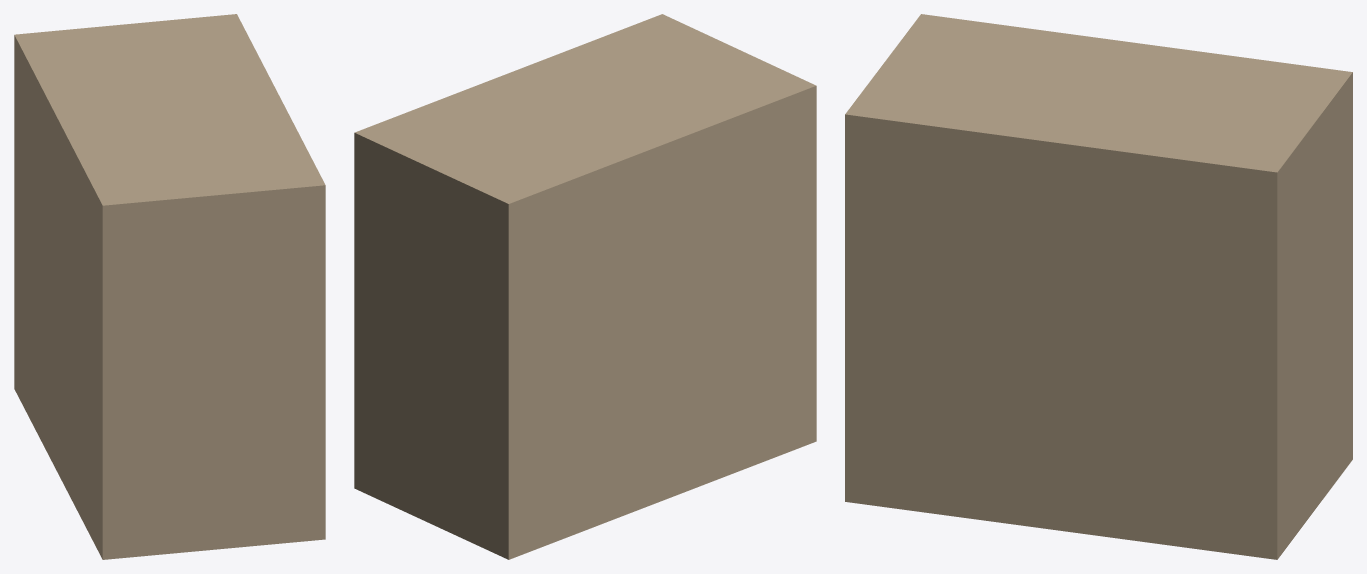
The model's file is bld_99519948.dae.
3 views of the same model, side by side, from view 1: azimuth 30°, elevation 25°; view 2: azimuth 150°, elevation 25°; view 3: azimuth 270°, elevation 25° (orthographic). The views are drawn at different scales.
Parts seen in each view (by area): view 1: bld_99519948; view 2: bld_99519948; view 3: bld_99519948.
Boxes of the visible parts, bbox=[...] form: bld_99519948: bbox=[14, 14, 325, 559]; bld_99519948: bbox=[354, 14, 816, 559]; bld_99519948: bbox=[845, 14, 1352, 559].
Size of the model in its own units: 7.02 by 9.5 by 8.
